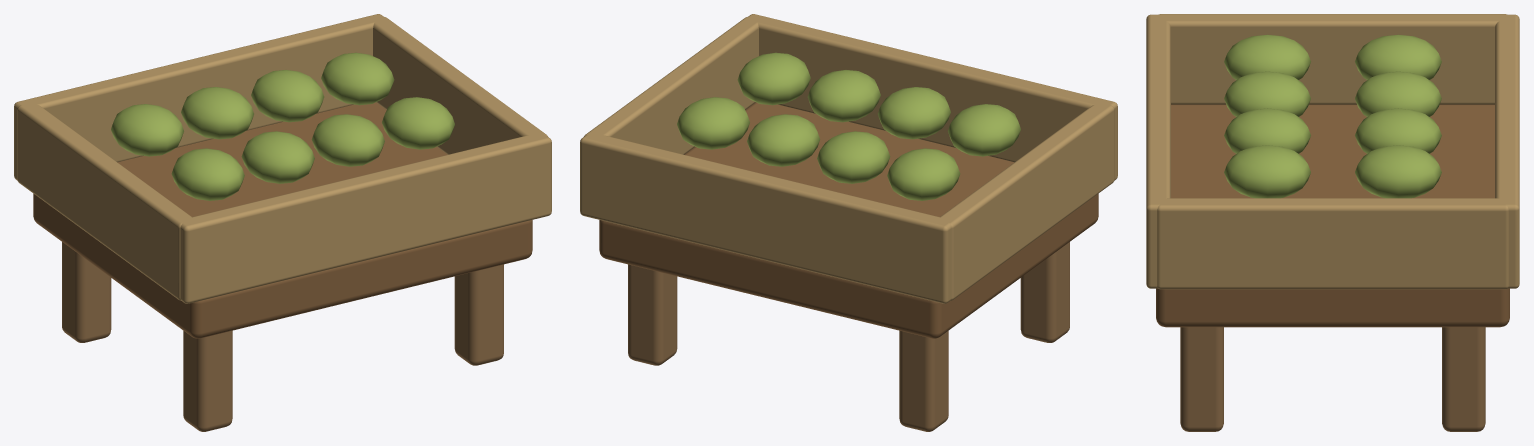
Rendered from fixture-elephant-browse-v01.glb.
3 views of the same model, side by side, from view 1: azimuth 30°, elevation 25°; view 2: azimuth 150°, elevation 25°; view 3: azimuth 270°, elevation 25° (orthographic). The views are drawn at different scales.
Visible parts, largest first — view 1: merged-static (×2), joinery, portion-3, portion-6, portion-2, portion-0, portion-1, portion-5, portion-7, portion-4; view 2: merged-static (×2), joinery, portion-2, portion-7, portion-6, portion-4, portion-1, portion-3, portion-5, portion-0; view 3: merged-static (×2), joinery, portion-3, portion-7, portion-2, portion-6, portion-1, portion-5, portion-0, portion-4.
Boxes of the visible parts, left/top/right/bottom form: merged-static (×2): left=14, top=14, right=551, bottom=431; joinery: left=33, top=102, right=532, bottom=338; portion-3: left=321, top=52, right=394, bottom=105; portion-6: left=311, top=114, right=384, bottom=166; portion-2: left=251, top=70, right=324, bottom=122; portion-0: left=111, top=104, right=183, bottom=156; portion-1: left=181, top=87, right=253, bottom=139; portion-5: left=241, top=131, right=314, bottom=183; portion-7: left=382, top=97, right=454, bottom=149; portion-4: left=171, top=148, right=244, bottom=200; merged-static (×2): left=580, top=14, right=1117, bottom=431; joinery: left=599, top=102, right=1098, bottom=338; portion-2: left=747, top=114, right=820, bottom=166; portion-7: left=737, top=52, right=810, bottom=105; portion-6: left=807, top=70, right=880, bottom=122; portion-4: left=948, top=104, right=1020, bottom=156; portion-1: left=817, top=131, right=890, bottom=183; portion-3: left=677, top=97, right=749, bottom=149; portion-5: left=878, top=87, right=950, bottom=139; portion-0: left=887, top=148, right=960, bottom=200; merged-static (×2): left=1146, top=14, right=1519, bottom=431; joinery: left=1156, top=104, right=1509, bottom=327; portion-3: left=1355, top=145, right=1441, bottom=198; portion-7: left=1224, top=145, right=1310, bottom=198; portion-2: left=1355, top=108, right=1441, bottom=153; portion-6: left=1224, top=108, right=1310, bottom=153; portion-1: left=1355, top=71, right=1441, bottom=116; portion-5: left=1224, top=71, right=1310, bottom=116; portion-0: left=1355, top=34, right=1441, bottom=79; portion-4: left=1224, top=34, right=1310, bottom=79.
Bounding box in the file's own units: 0.845 × 0.525 × 0.685.
